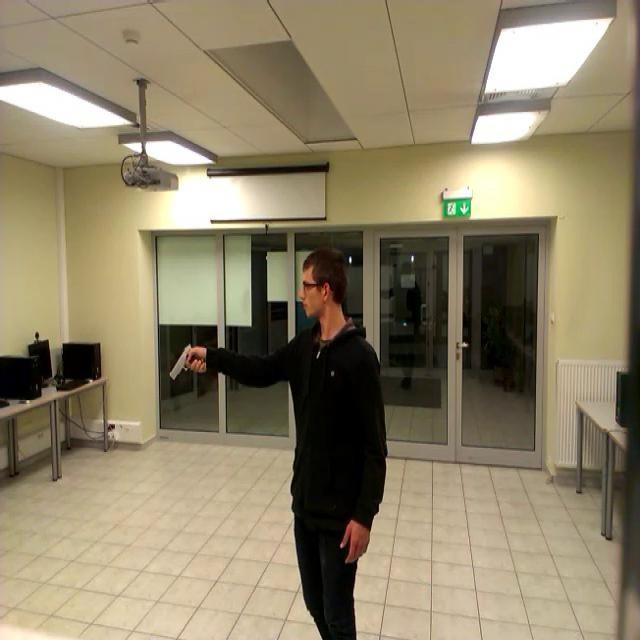weapon: (168, 344, 205, 380)
